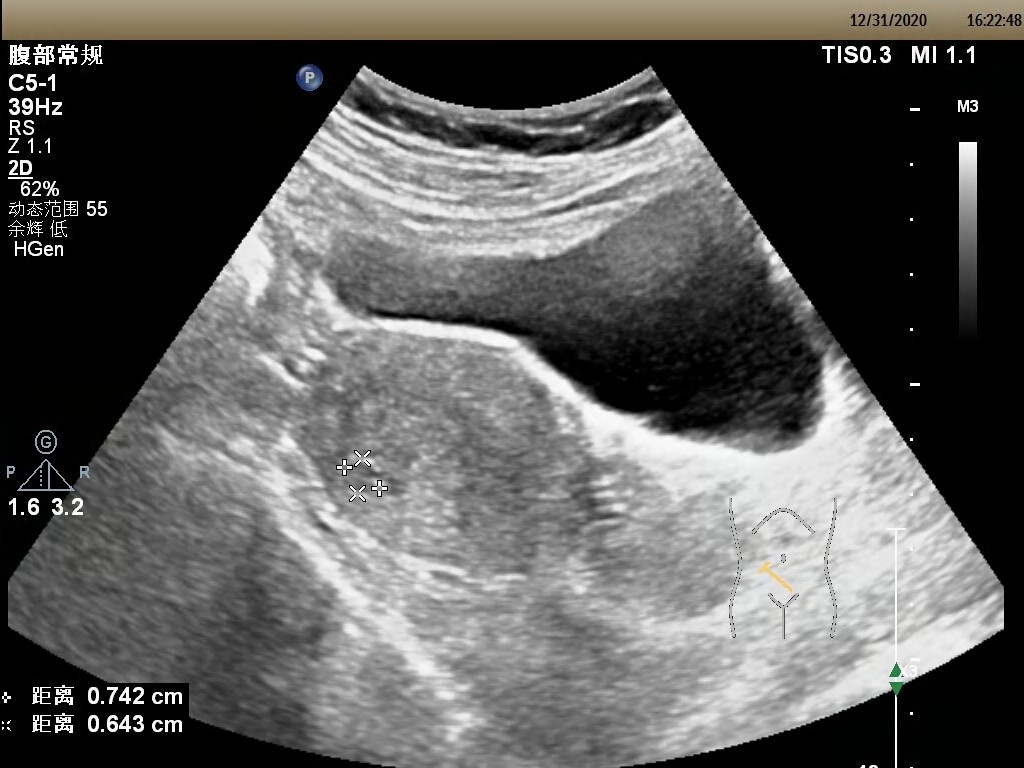肌瘤: (350, 461, 380, 490)
